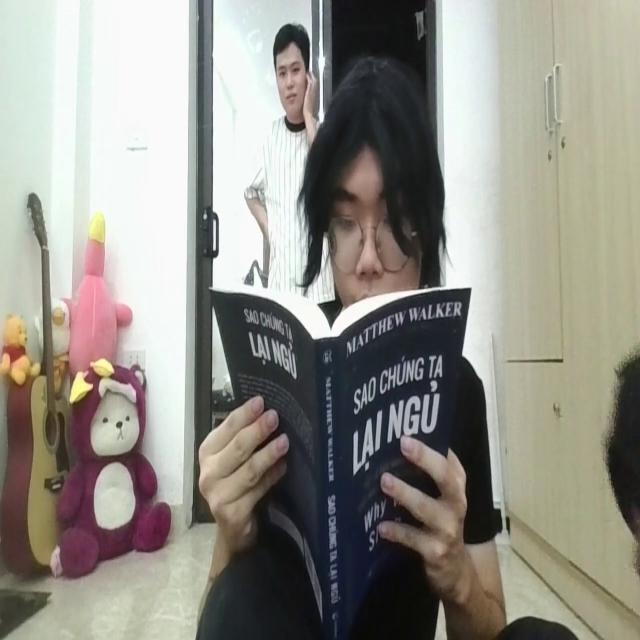book: (201, 276, 462, 637)
extra_person: (246, 27, 339, 313)
student: (199, 53, 505, 640)
